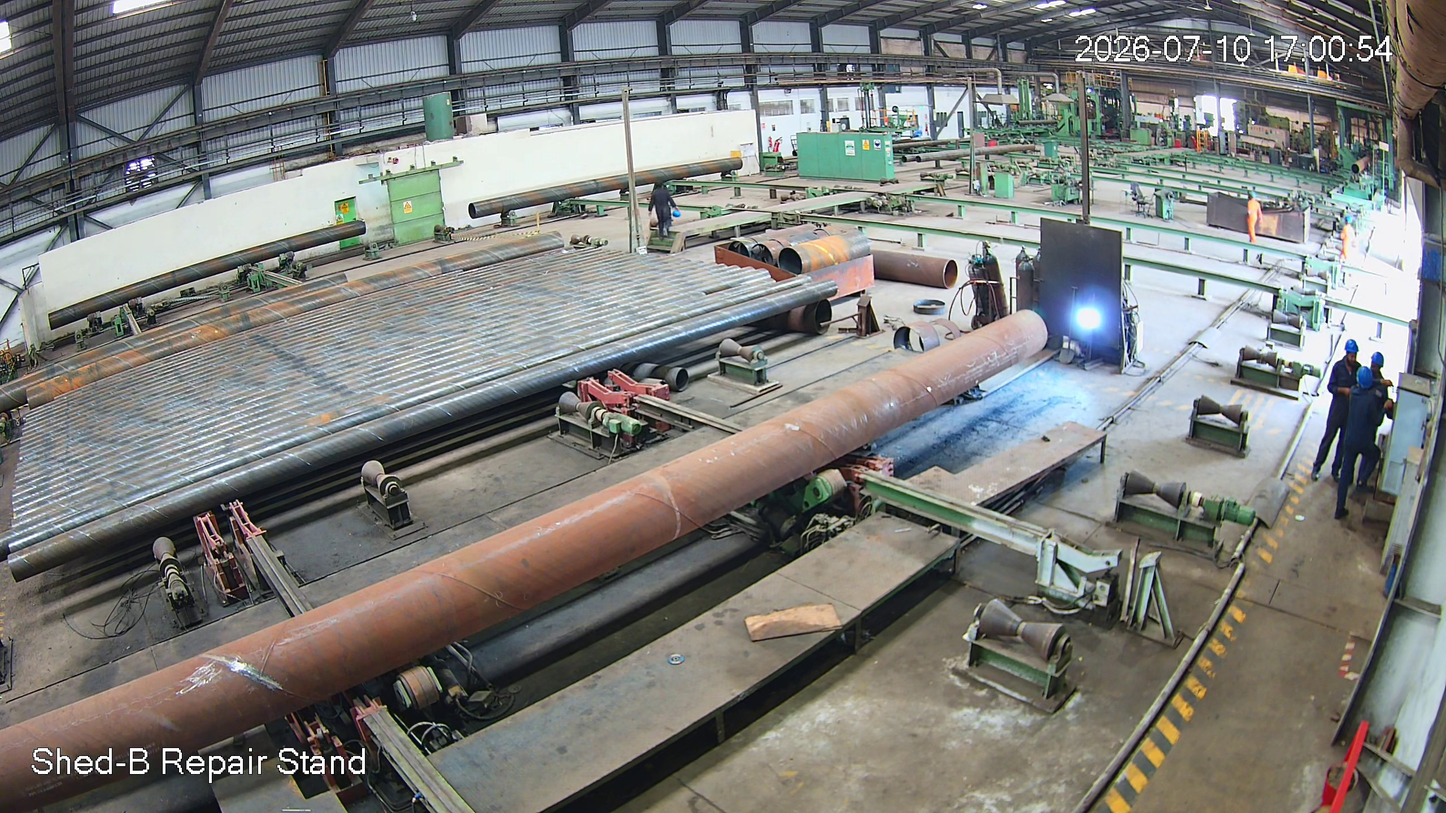Helmet: (1357, 351, 1392, 402), (1340, 335, 1369, 363)
Person: (1340, 351, 1386, 507), (1313, 338, 1359, 467)
